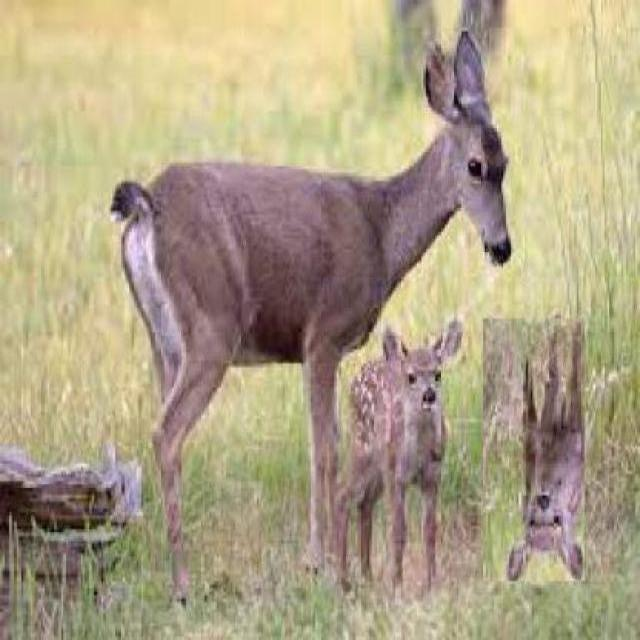deer: (80, 49, 522, 314), (332, 330, 470, 586), (483, 319, 586, 581)
